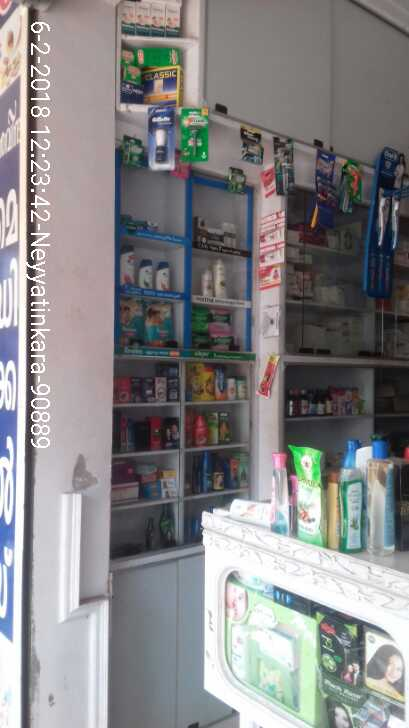oralcare: (364, 141, 401, 305)
